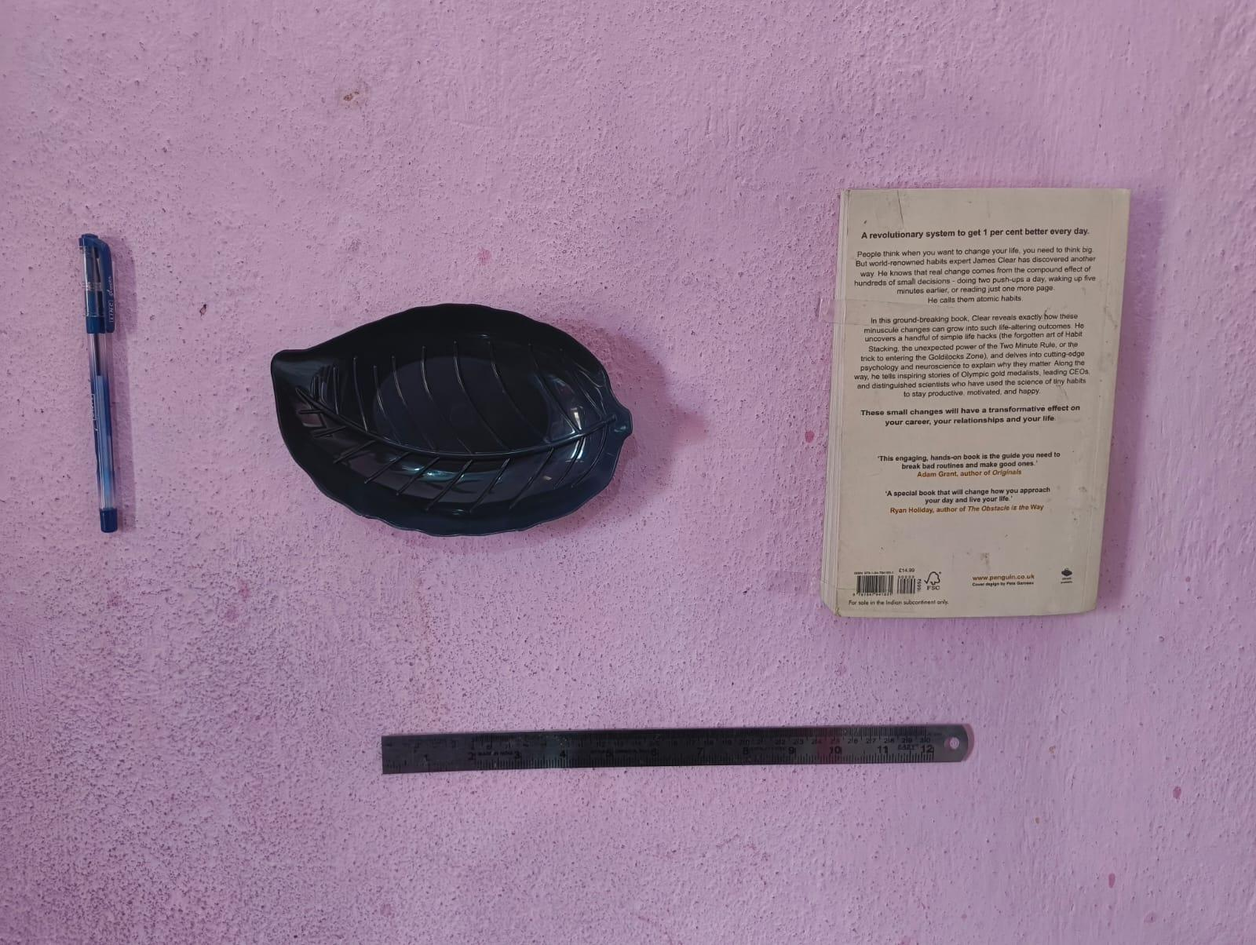Book: (820, 173, 1137, 627)
pen: (66, 231, 131, 540)
plate: (272, 299, 642, 544)
scale: (372, 719, 988, 778)
